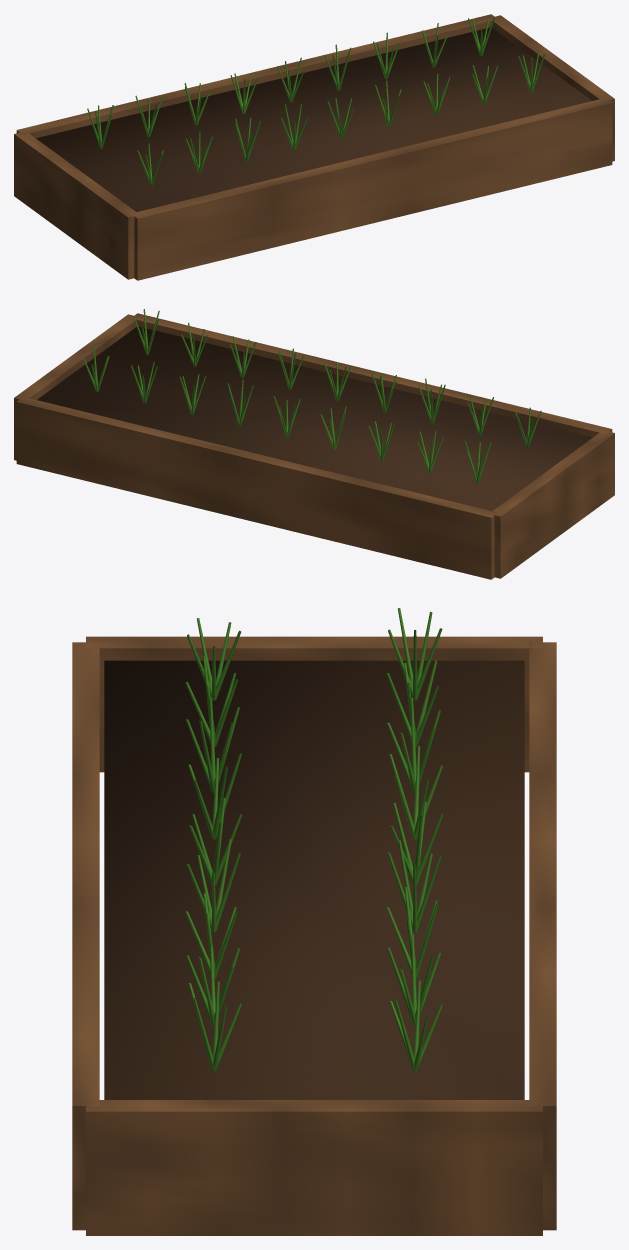
The model's file is GardenBed.glb.
The picture shows the model from 3 angles, top to bottom: view 1: azimuth 30°, elevation 25°; view 2: azimuth 150°, elevation 25°; view 3: azimuth 270°, elevation 25°; orthographic projection. The views are drawn at different scales.
Parts seen in each view (by area): view 1: Planks, Soil, VegTops; view 2: Planks, Soil, VegTops; view 3: Soil, Planks, VegTops.
Boxes of the visible parts, left/top/right/bottom form: Planks: left=14, top=14, right=614, bottom=280; Soil: left=36, top=27, right=591, bottom=211; VegTops: left=87, top=17, right=545, bottom=185; Planks: left=14, top=313, right=614, bottom=579; Soil: left=37, top=326, right=592, bottom=510; VegTops: left=83, top=309, right=541, bottom=484; Soil: left=104, top=660, right=524, bottom=1099; Planks: left=72, top=636, right=556, bottom=1235; VegTops: left=185, top=608, right=443, bottom=1071.
Bounding box in the file's own units: 2.46 × 0.4798 × 1.06.
